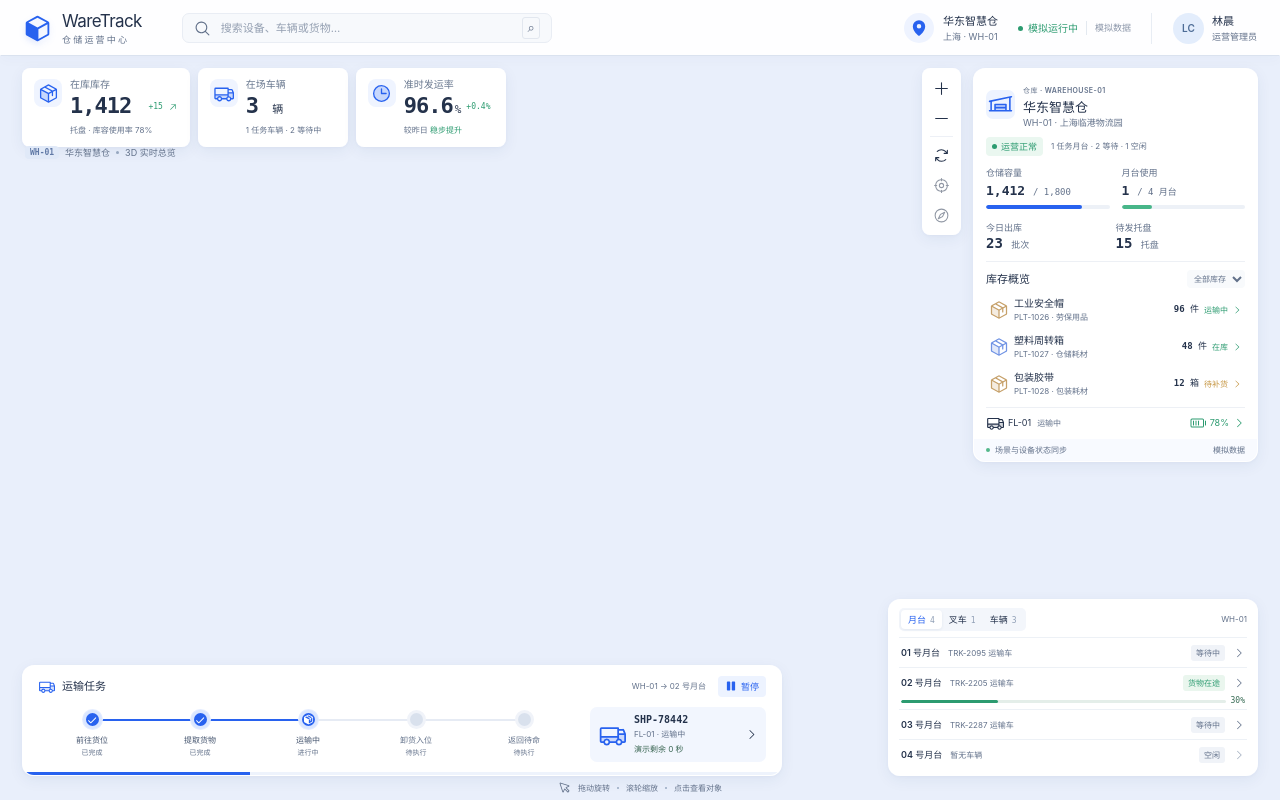
Test: Dashboard › searches actual entities and selects the result
In the dropdown labelled "搜索设备、车辆或货物": (367, 28) [219,19,514,37], type "forklift-01"
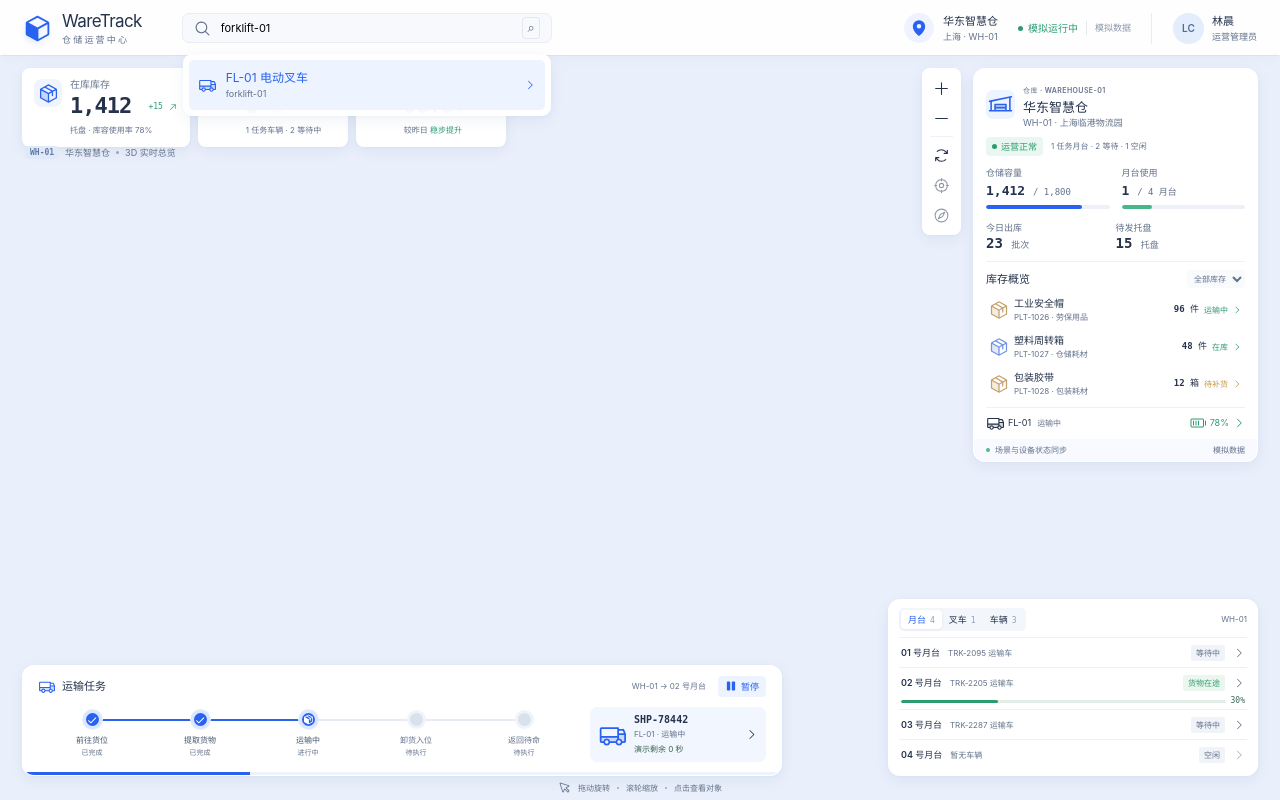
Click the option "FL-01 电动叉车 forklift-01": (267, 78) [189,60,545,110]
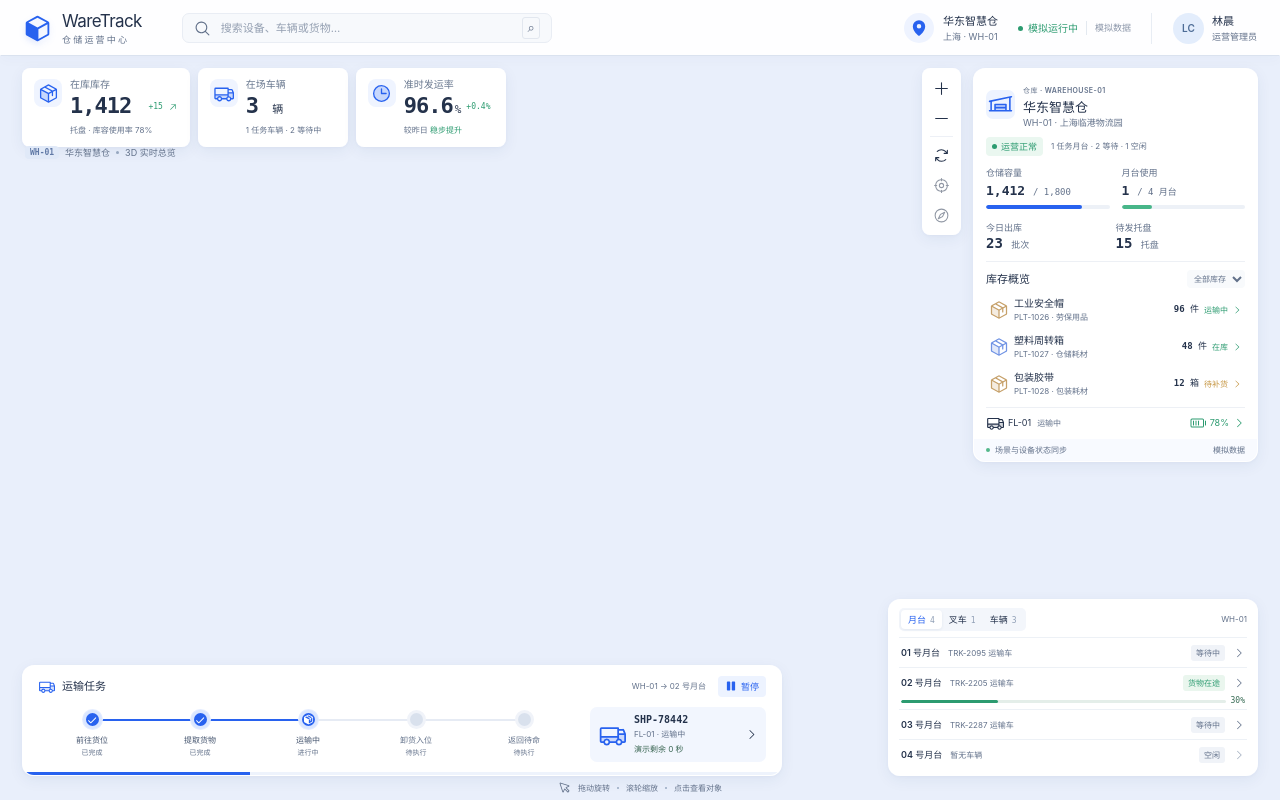
Expected: the list is gone
